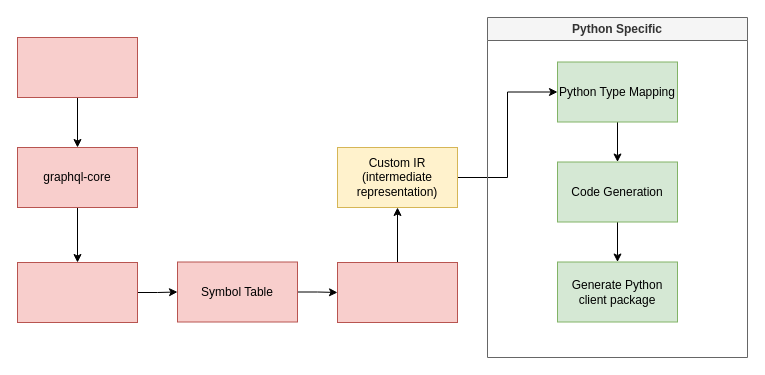
Image size: 765x375. Some labels were removed from this diagram. Each missing label, with the centre of its shape:
"GraphQL AST" goes at point 77,292.
"GraphQL SDL" goes at point 77,67.
"Semantic Analysis" goes at point 397,292.
